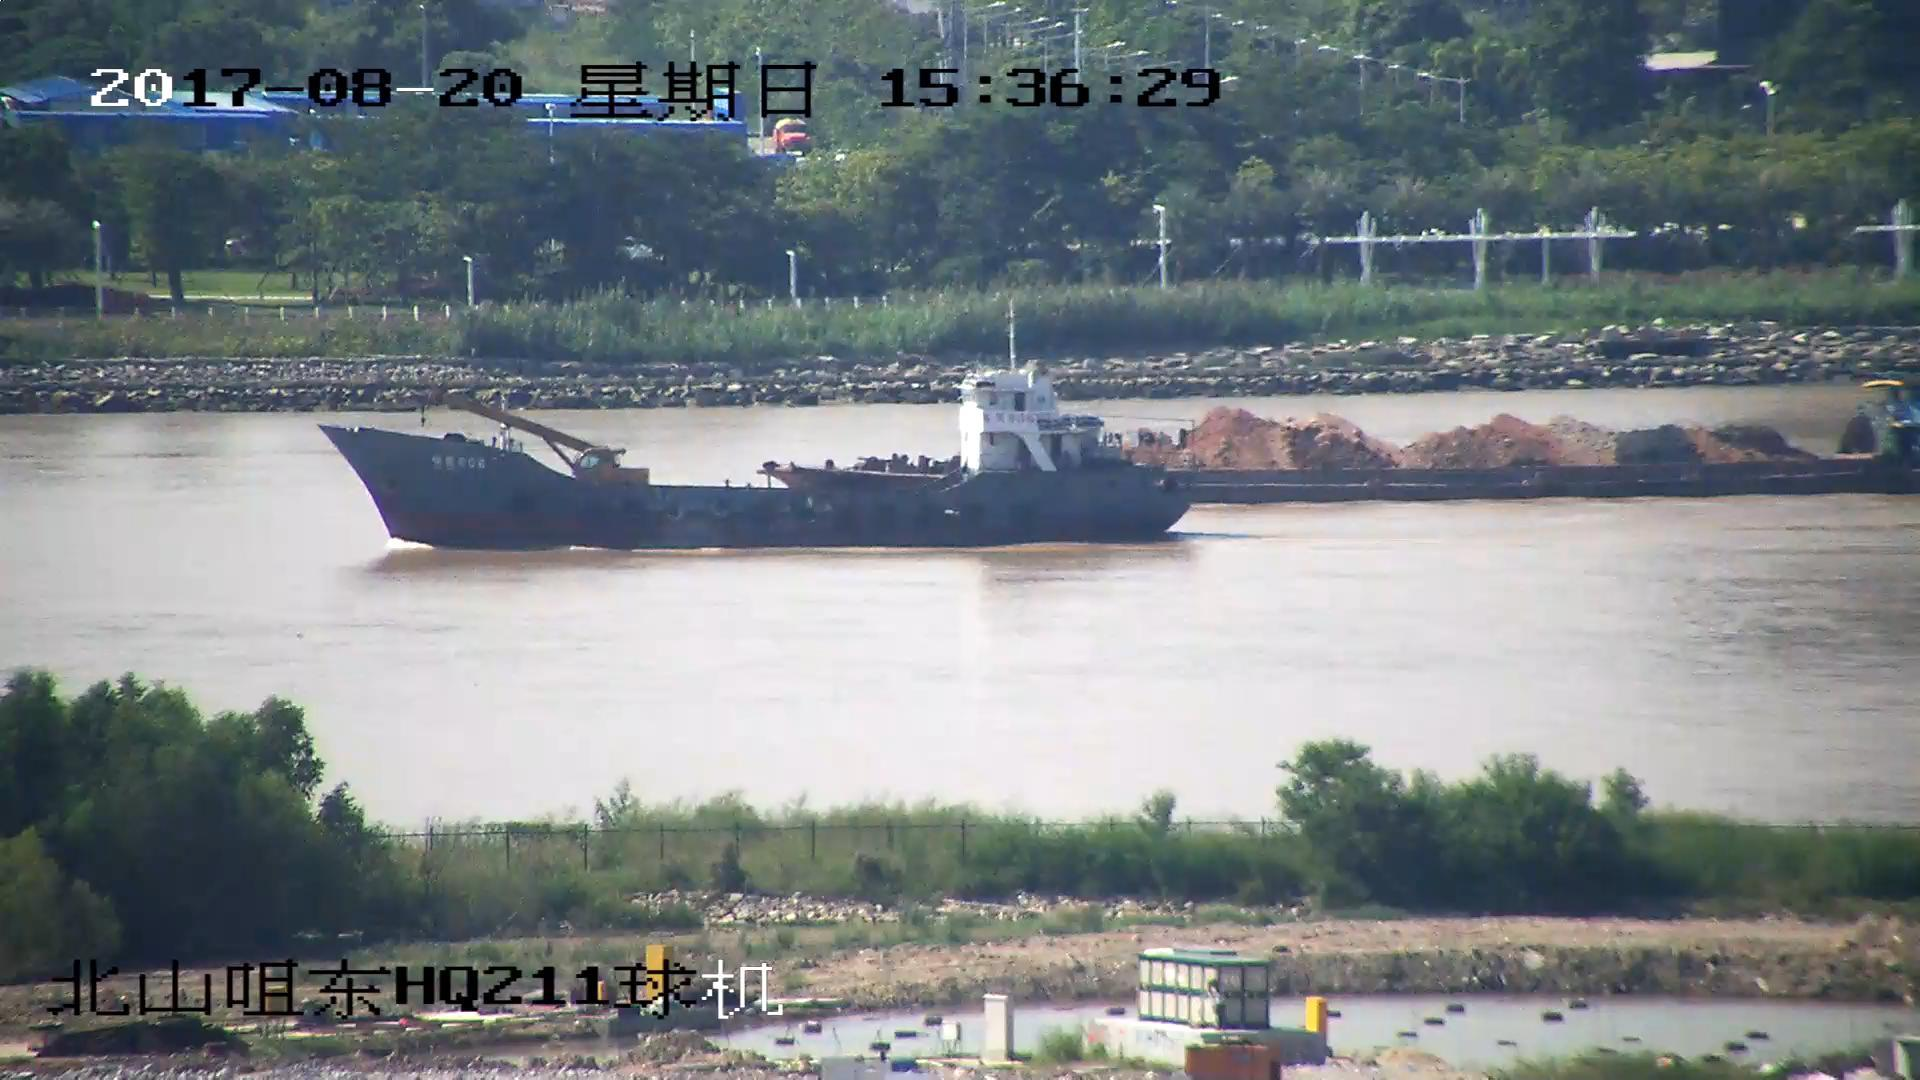Ship: (319, 295, 1196, 549), (769, 381, 1920, 506)
